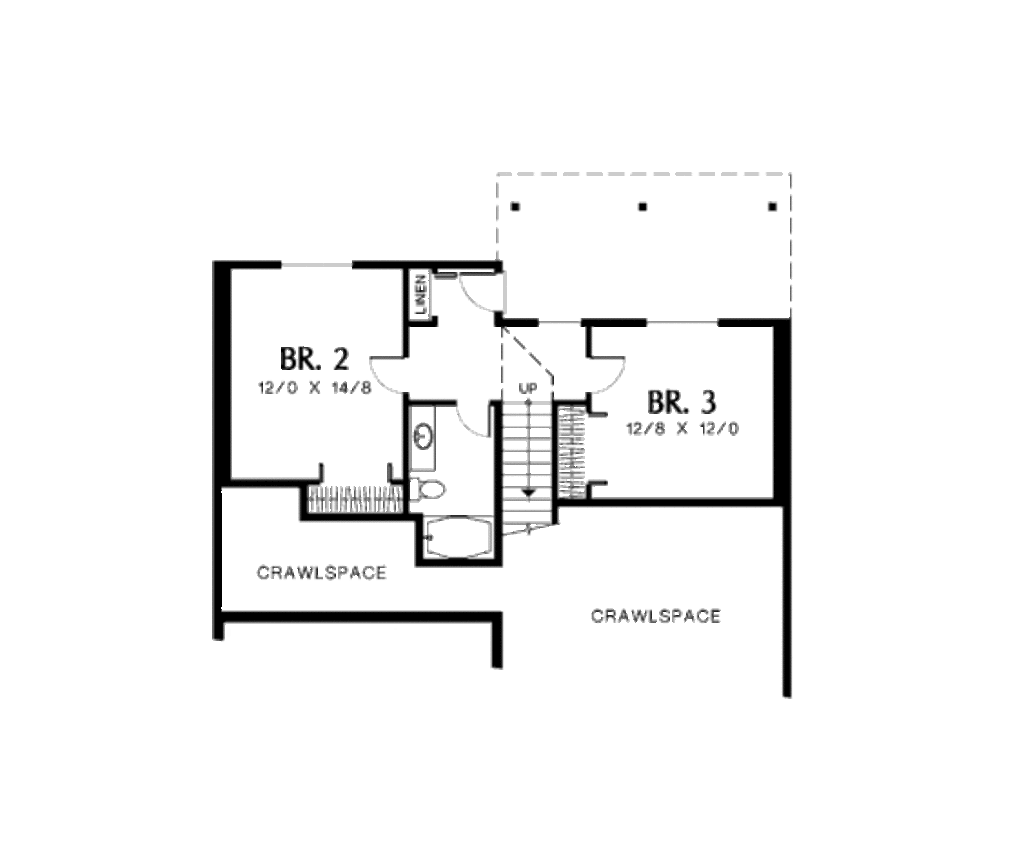door: (360, 348, 418, 398), (460, 270, 516, 315), (580, 350, 631, 398), (450, 395, 490, 441)
large_sink: (403, 477, 451, 511)
small_sink: (402, 402, 442, 473)
stairs: (492, 395, 567, 539)
tub: (416, 511, 499, 559)
window: (642, 316, 719, 334), (282, 256, 350, 272)
